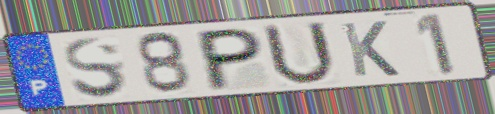1: (413, 11, 459, 78)
8: (134, 30, 194, 97)
K: (338, 19, 403, 79)
P: (198, 26, 266, 94)
S: (60, 36, 131, 101)
U: (259, 20, 340, 88)
